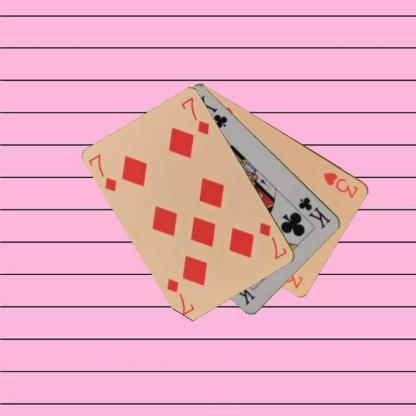3h: (320, 169, 361, 200)
7d: (86, 151, 119, 193), (256, 219, 289, 260)
Kc: (297, 194, 332, 231)
